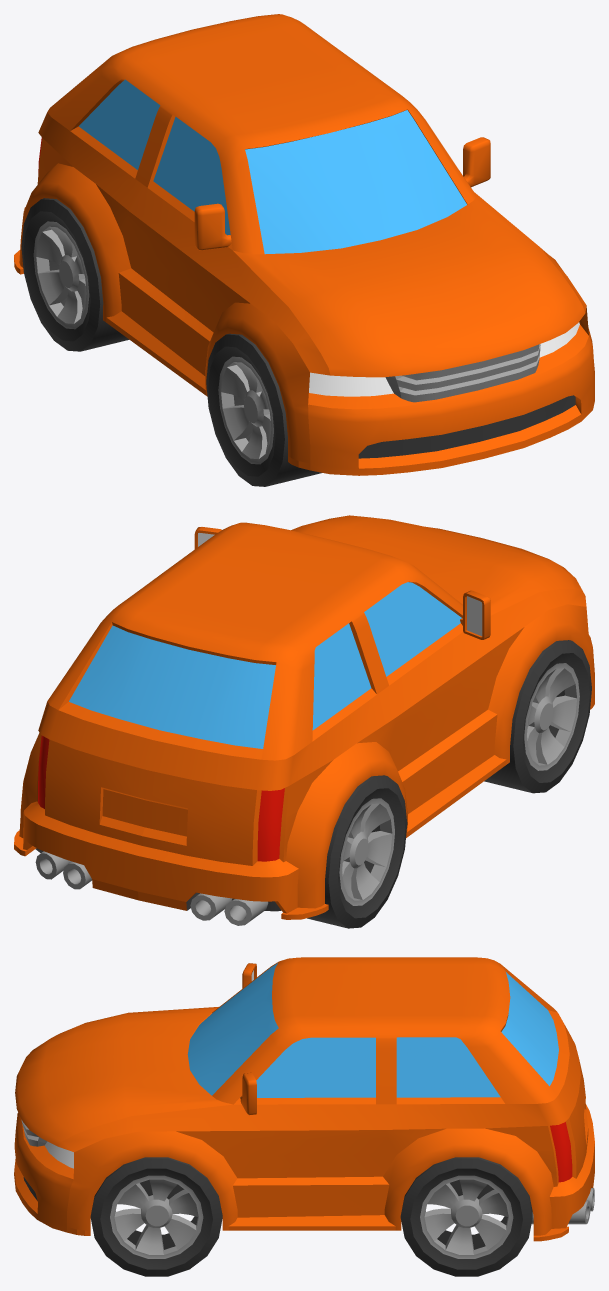
The model's file is Cake_ThemeToys_P.FBX.
3 renders of one model, top to bottom at view 1: azimuth 30°, elevation 25°; view 2: azimuth 150°, elevation 25°; view 3: azimuth 270°, elevation 25°, orthographic. The views are drawn at different scales.
Visible parts, largest first — view 1: Cake_ThemeToys_P; view 2: Cake_ThemeToys_P; view 3: Cake_ThemeToys_P.
Boxes of the visible parts, box(x1,y1,x2,y2) form: Cake_ThemeToys_P: box(14, 14, 594, 486); Cake_ThemeToys_P: box(14, 515, 594, 928); Cake_ThemeToys_P: box(14, 957, 594, 1276).
Bounding box in the file's own units: 39351 × 31840 × 75037.
